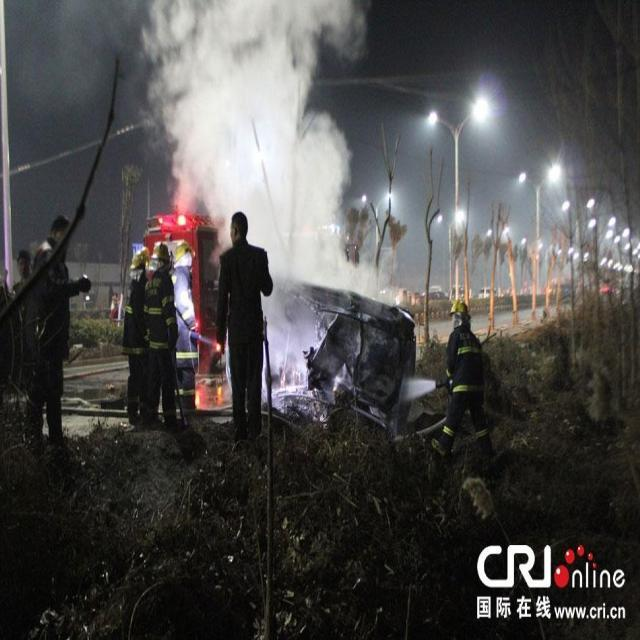Smoke: (138, 1, 402, 428)
